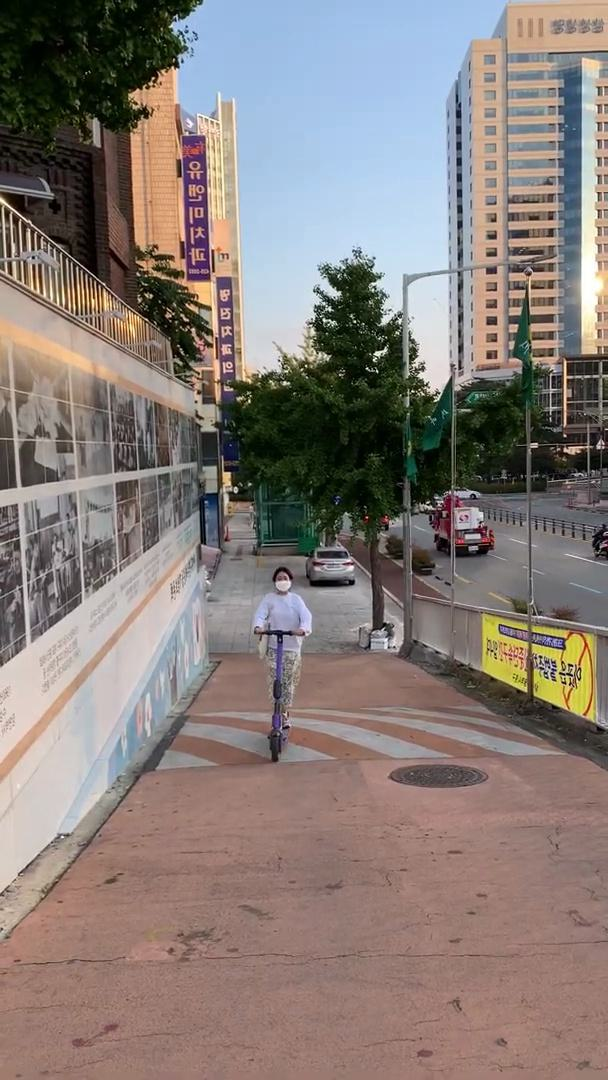nonhelmet: (245, 564, 314, 762)
